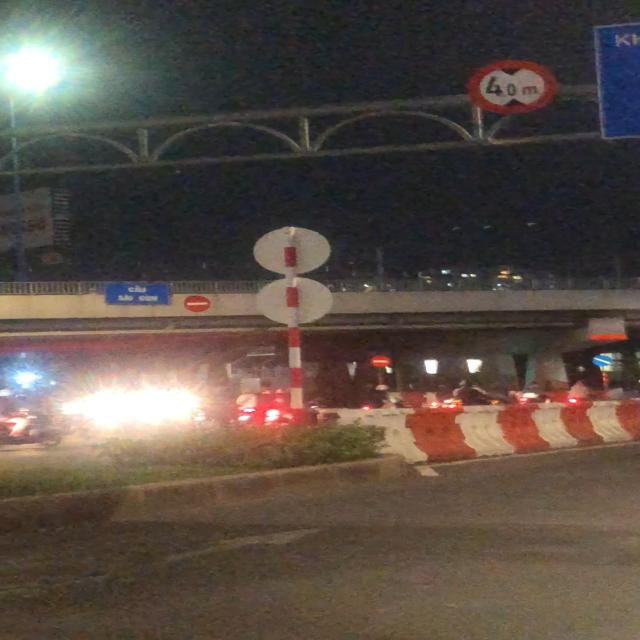Bien bao cam di nguoc chieu: (462, 58, 566, 117), (181, 292, 213, 312), (368, 353, 393, 368)
Bien bao huong phai di vong chuong ngai vat: (590, 354, 615, 368)
